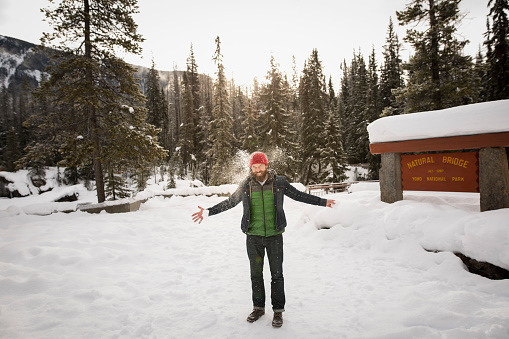em pe: (187, 143, 313, 315)
